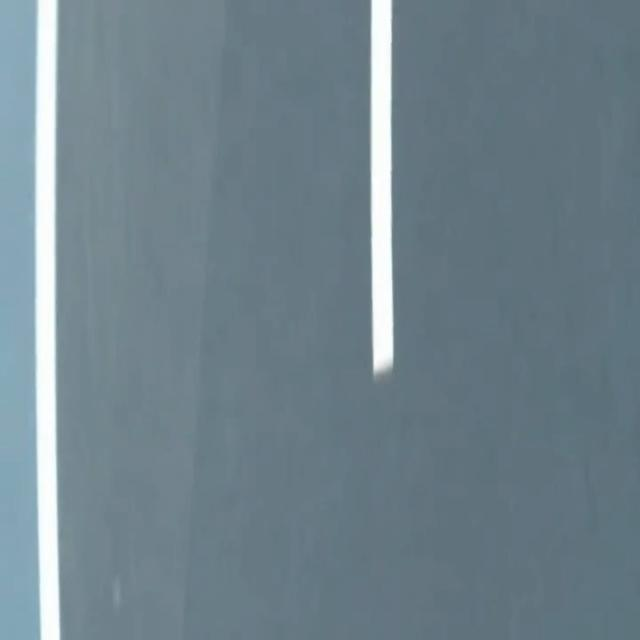center: (371, 0, 393, 376)
left: (36, 0, 60, 639)
